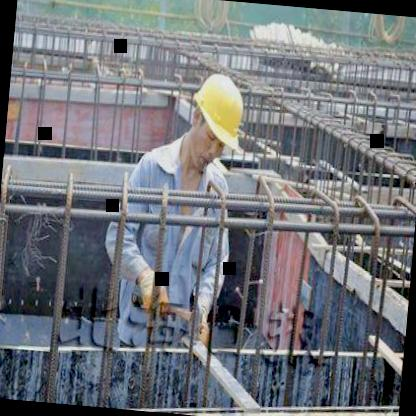helmet: (182, 60, 258, 171)
